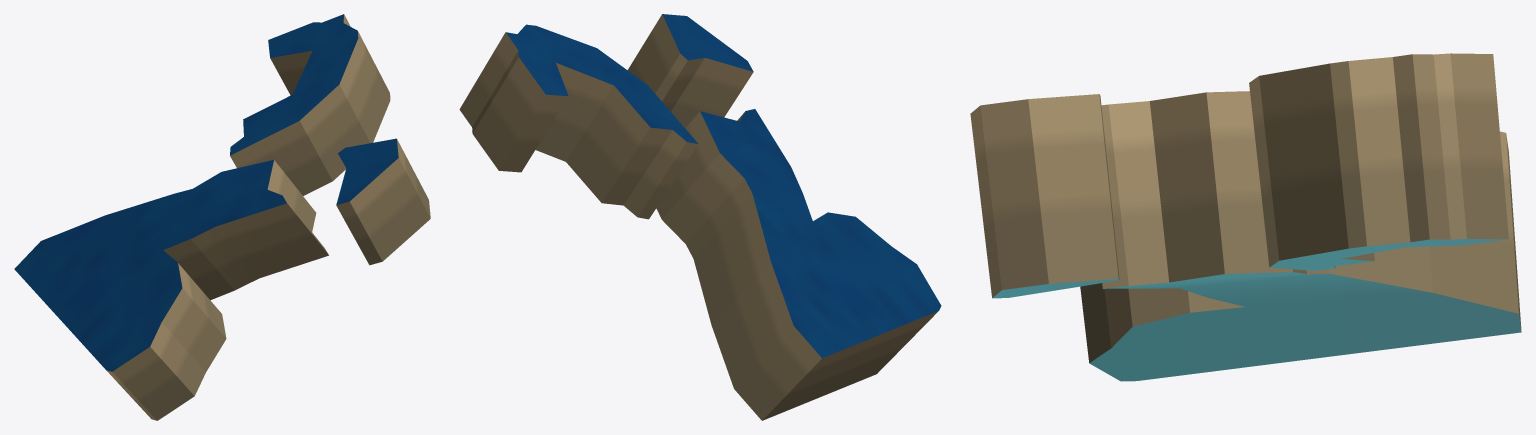
The model's file is 0608_Papua_New_Guinea.glb.
3 views of the same model, side by side, from view 1: azimuth 30°, elevation 25°; view 2: azimuth 150°, elevation 25°; view 3: azimuth 270°, elevation 25° (orthographic). The views are drawn at different scales.
Parts seen in each view (by area): view 1: part_0; view 2: part_0; view 3: part_0.
Part boxes in pixels (x1,y1,x2,y2): part_0: (14, 14, 430, 420); part_0: (459, 14, 941, 420); part_0: (970, 53, 1521, 381).
Size of the model in its own units: 0.865 by 0.6899 by 0.592.
Materials: 1 (1 with a texture image).
